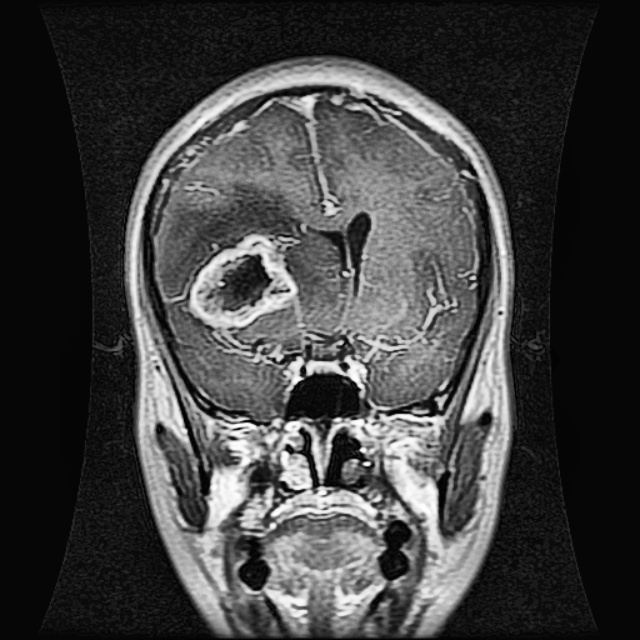Meningioma: (182, 227, 299, 332)
